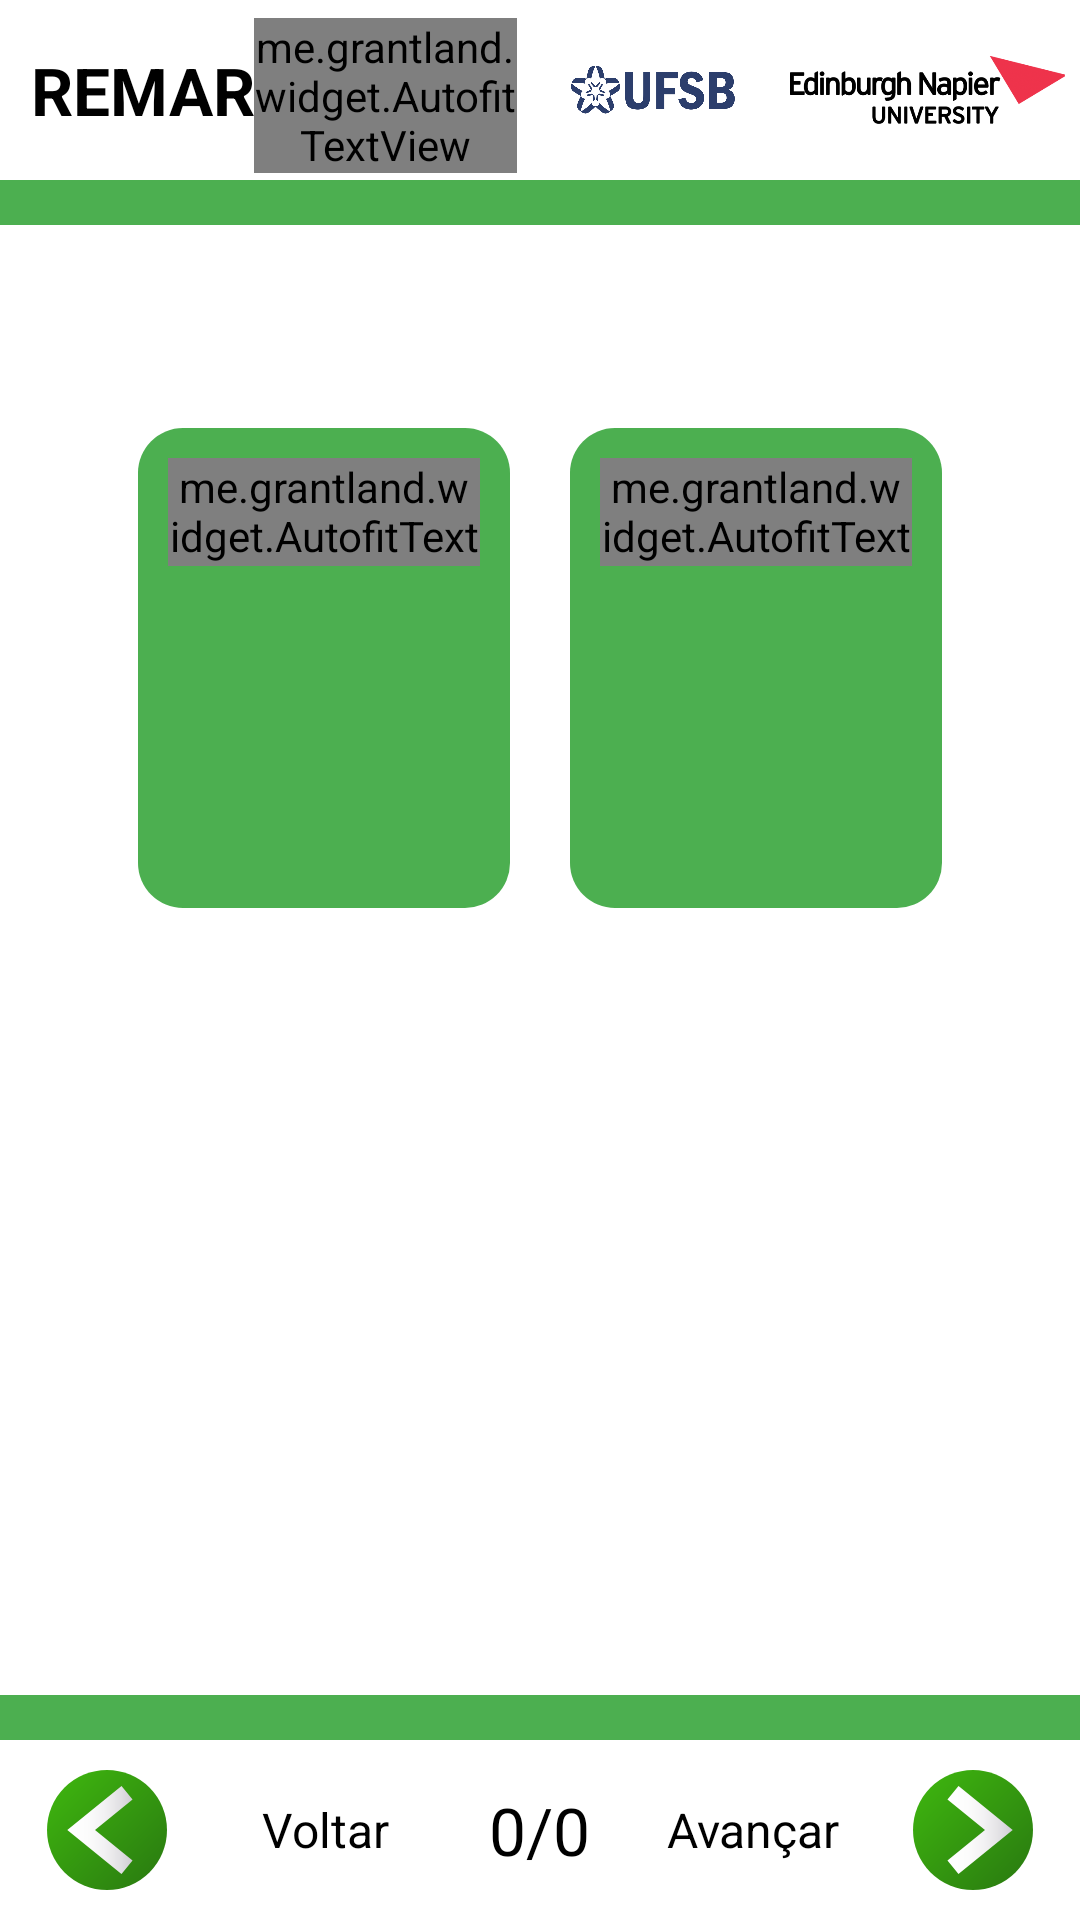

Where to tap for icons on this 1080x1920 app screen, as (x=x, y=y):
back state: (x=107, y=1830)
next state: (x=973, y=1830)
